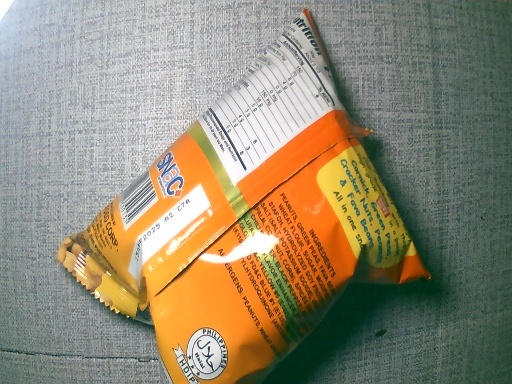plastic: (57, 22, 411, 384)
